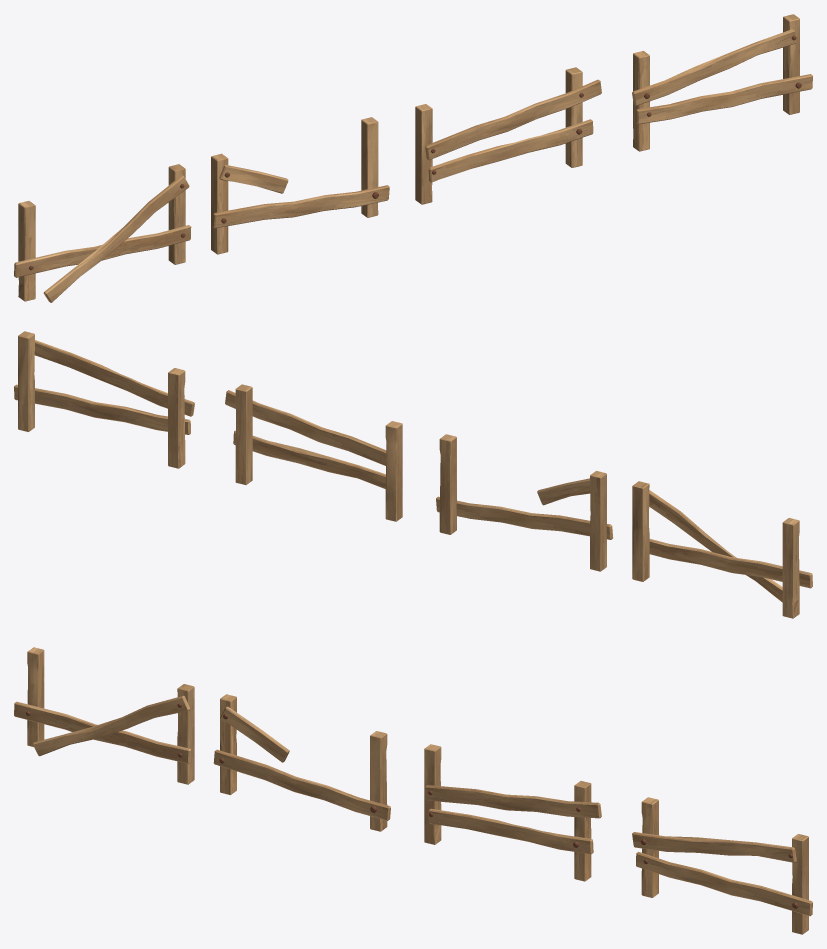
Rendered from Fences.glb.
3 renders of one model, top to bottom at view 1: azimuth 30°, elevation 25°; view 2: azimuth 150°, elevation 25°; view 3: azimuth 330°, elevation 25°, orthographic.
Visible parts, largest first — view 1: Fence2, Fence4, Fence1, Fence3; view 2: Fence4, Fence2, Fence1, Fence3; view 3: Fence4, Fence2, Fence1, Fence3.
Boxes of the visible parts, box(x1,y1,x2,y2) form: Fence2: box(415, 67, 601, 204); Fence4: box(632, 14, 812, 151); Fence1: box(14, 164, 191, 302); Fence3: box(211, 117, 389, 254); Fence4: box(14, 331, 194, 468); Fence2: box(225, 384, 402, 521); Fence1: box(632, 481, 812, 618); Fence3: box(436, 434, 613, 571); Fence4: box(632, 797, 812, 934); Fence2: box(424, 744, 601, 881); Fence1: box(14, 647, 194, 784); Fence3: box(213, 694, 390, 831).
Bounding box in the file's own units: 7.36 × 0.8352 × 0.2293.
Materials: 2 (2 with a texture image).
